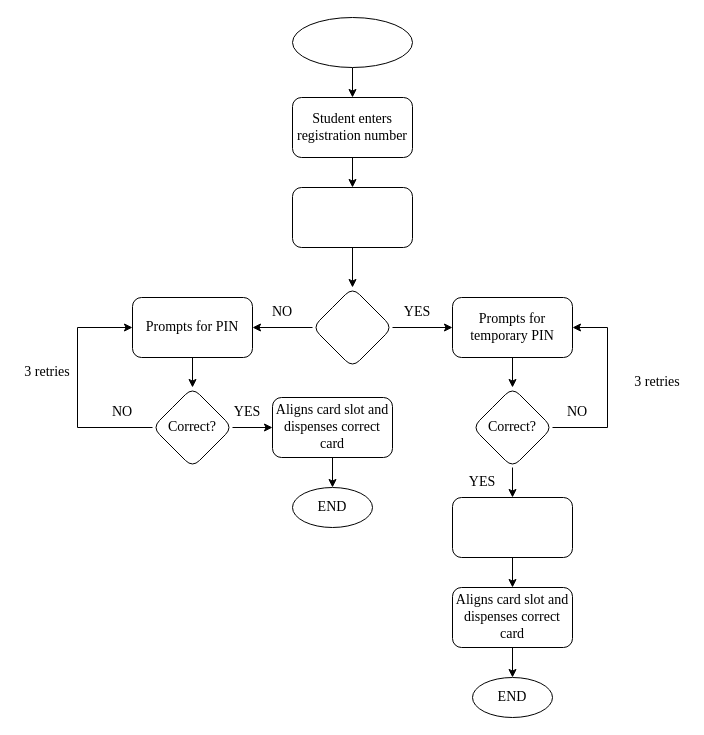
Some shapes in this 704 by 735 pixel diagram are drawn without their labels. The shapes that lost their labels are listed below. From the top down, each one's centre as x and y in pixels, then its label:
the point at 352,42: START
the point at 352,217: Prompts for OTP
the point at 352,327: First time users?
the point at 512,527: Set up new permanent PIN
